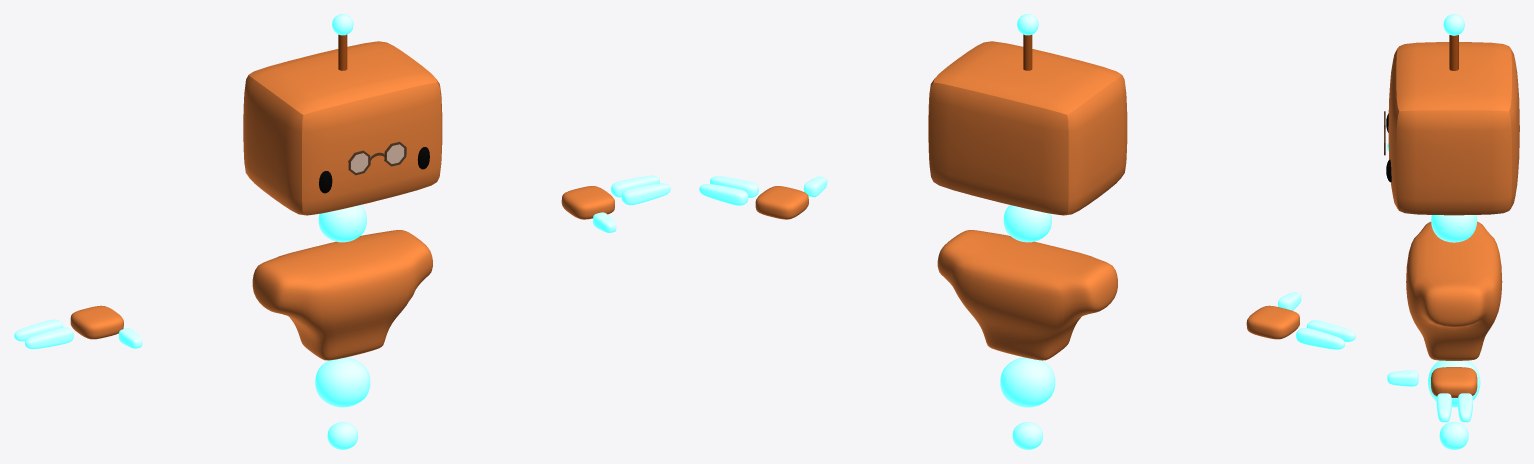
File: Poet.fbx
3 views of the same model, side by side, from view 1: azimuth 30°, elevation 25°; view 2: azimuth 150°, elevation 25°; view 3: azimuth 270°, elevation 25° (orthographic).
Parts seen in each view (by area): view 1: Cube.001, Circle; view 2: Cube.001; view 3: Cube.001, Cube, NurbsPath, Cube.002.
Part boxes in pixels (x1=…): Cube.001: x1=14, y1=41, x2=670, y2=449; Circle: x1=348, y1=141, x2=406, y2=175; Cube.001: x1=699, y1=41, x2=1355, y2=449; Cube.001: x1=1387, y1=42, x2=1519, y2=449; Cube: x1=1443, y1=14, x2=1464, y2=35; NurbsPath: x1=1449, y1=35, x2=1458, y2=70; Cube.002: x1=1386, y1=113, x2=1391, y2=182.
Bounding box in the file's own units: 779 × 501 × 142.
